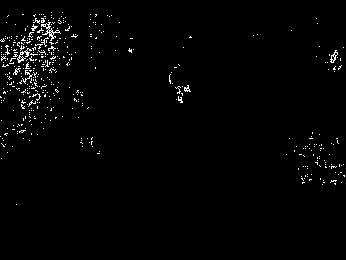person: (168, 60, 193, 109)
